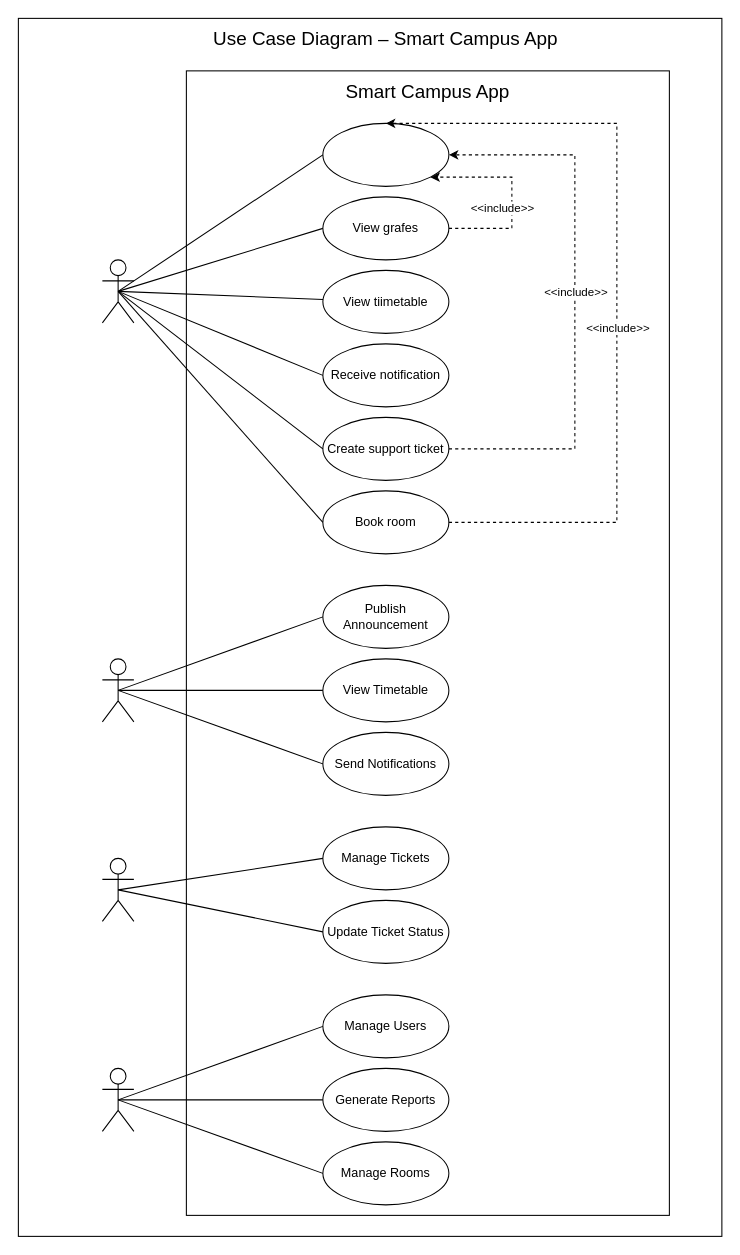
Some shapes in this 740 by 1255 pixel diagram are drawn without their labels. The shapes that lost their labels are listed below. From the top down, each one's centre as x and y in pixels, then its label:
At (x=385, y=154): "Login".
At (x=117, y=291): "Student".
At (x=117, y=690): "Lecturer".
At (x=117, y=889): "IT Support".
At (x=117, y=1099): "Admin".
